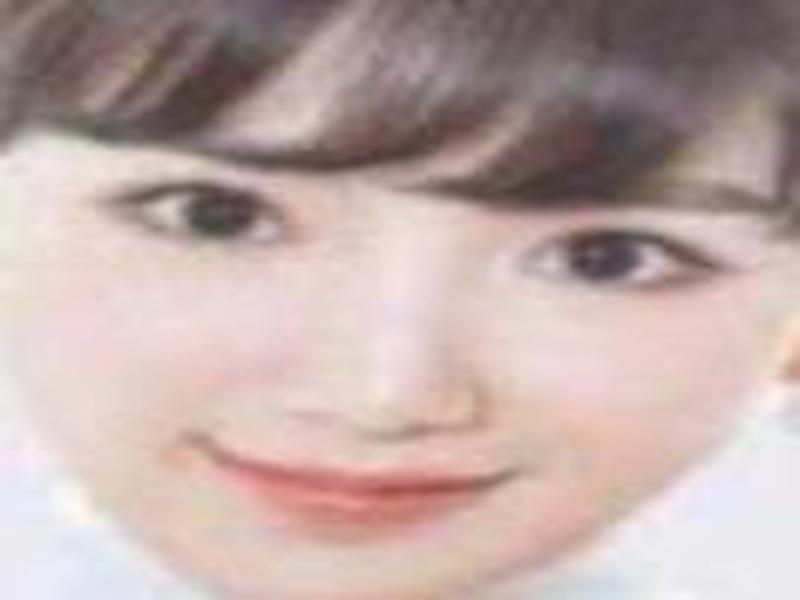without_mask: (6, 127, 778, 600)
